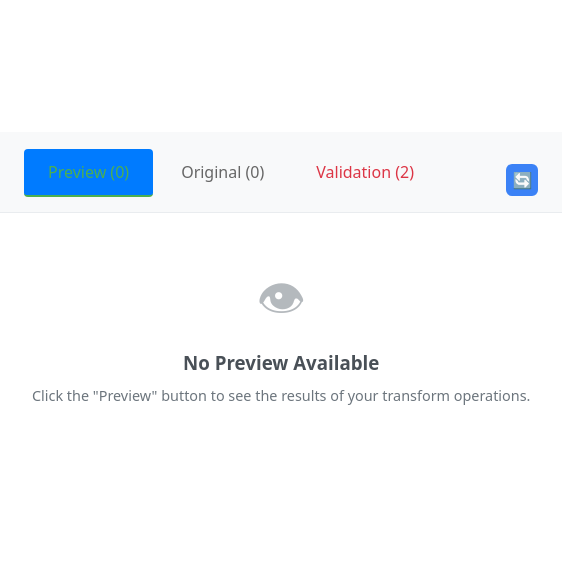
TransformPreviewPanel › displays validation results correctly
// Switch to validation tab
What coordinates should you click on to do the following:
click the button "Validation (2)"
I would click on:
 (365, 173)
Its box is [292,149,438,197].
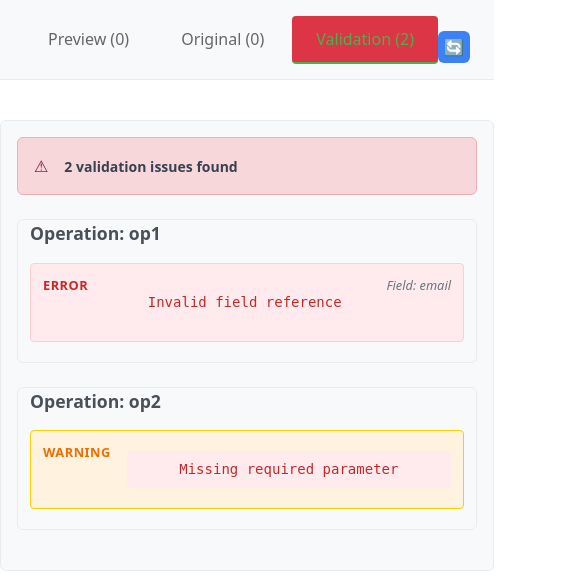
Check: the text "2 validation issues found" is shown, box [64,156,238,177]
Check: the text "Invalid field reference" is shown, box [119,284,370,320]
Check: the text "Missing required parameter" is shown, box [127,451,451,488]
